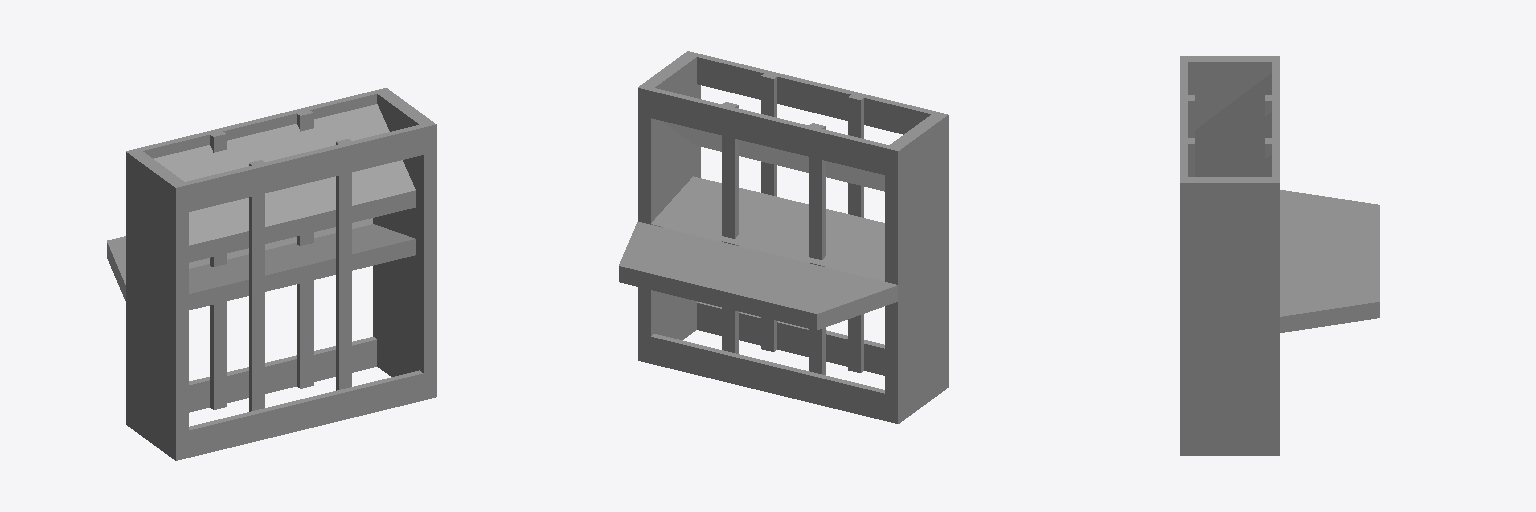
The model's file is conveyor_elevator_int.obj.
The picture shows the model from 3 angles: view 1: azimuth 30°, elevation 25°; view 2: azimuth 150°, elevation 25°; view 3: azimuth 270°, elevation 25°; orthographic projection.
Parts seen in each view (by area): view 1: Frame_fmdl, CapTop_ctmdl, CapBottom_cbmdl, Attach_attachmdl; view 2: Frame_fmdl, Attach_attachmdl, CapBottom_cbmdl, CapTop_ctmdl; view 3: Frame_fmdl, Attach_attachmdl, CapTop_ctmdl.
Boxes of the visible parts, box(x1,y1,x2,y2) form: Frame_fmdl: box(126, 88, 436, 460); CapTop_ctmdl: box(154, 104, 415, 262); CapBottom_cbmdl: box(189, 224, 415, 309); Attach_attachmdl: box(107, 218, 372, 300); Frame_fmdl: box(638, 51, 948, 423); Attach_attachmdl: box(619, 222, 897, 329); CapBottom_cbmdl: box(651, 176, 884, 281); CapTop_ctmdl: box(663, 121, 884, 191); Frame_fmdl: box(1180, 56, 1279, 455); Attach_attachmdl: box(1280, 190, 1379, 332); CapTop_ctmdl: box(1195, 73, 1271, 176).
Size of the model in its own units: 1 by 1 by 0.6667.